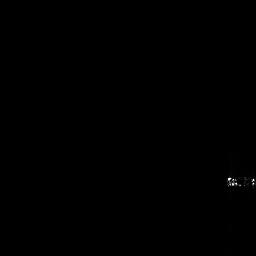ship: (224, 173, 256, 191)
